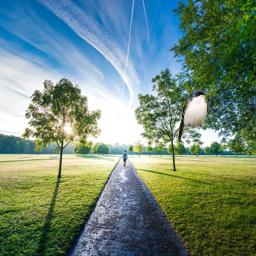Swallow: (178, 87, 210, 142)
